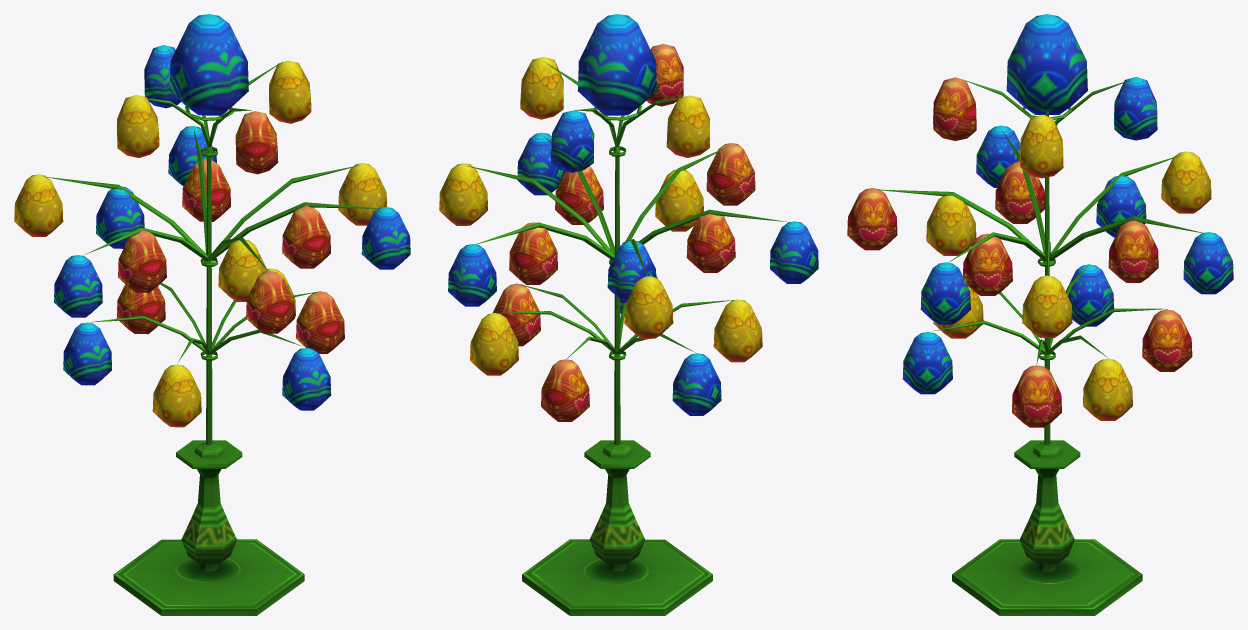
Rendered from Egg_Pillar_02.FBX.
The picture shows the model from 3 angles, left to right: view 1: azimuth 30°, elevation 25°; view 2: azimuth 150°, elevation 25°; view 3: azimuth 270°, elevation 25°; orthographic projection.
Parts seen in each view (by area): view 1: Egg_Pillar_02; view 2: Egg_Pillar_02; view 3: Egg_Pillar_02.
Part boxes in pixels (x1=…): Egg_Pillar_02: x1=14, y1=14, x2=410, y2=615; Egg_Pillar_02: x1=439, y1=14, x2=818, y2=615; Egg_Pillar_02: x1=847, y1=14, x2=1233, y2=615.
Size of the model in its own units: 1.57 by 2.47 by 1.53.
